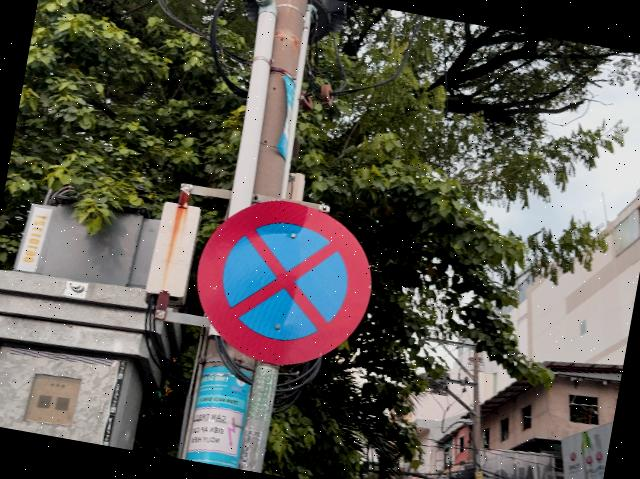cam-dung-va-do-xe: (184, 187, 384, 378)
